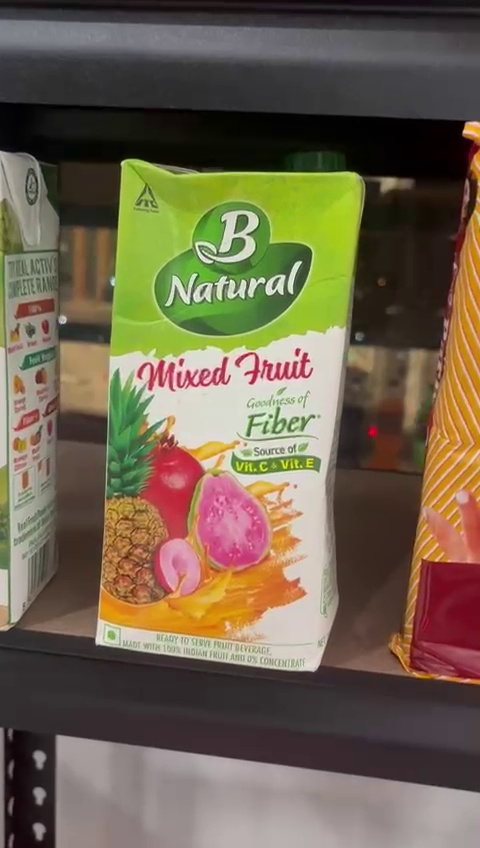Mixed Fruit: (104, 159, 364, 665)
